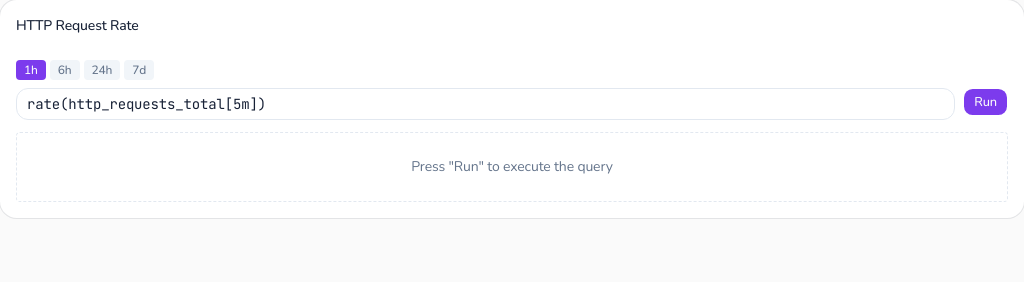
Scenario: PromQLChartCard › renders a MiniLineChart when the query returns result series
Click the button "Run" at [986, 102], box [963,88,1008,116]
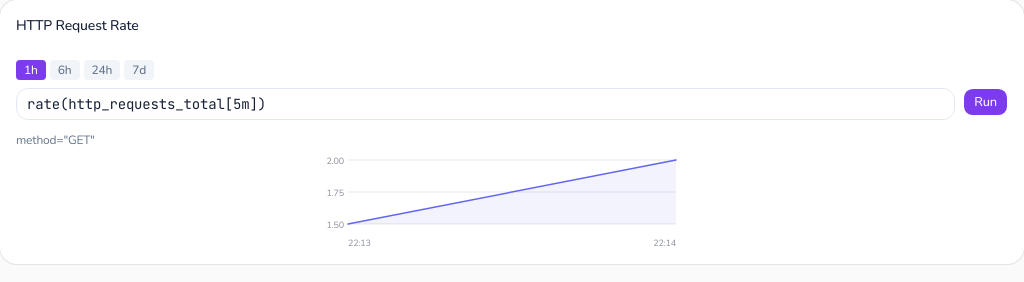
Expected: the icon named "Time series chart" is shown, [16,152,1008,248]
